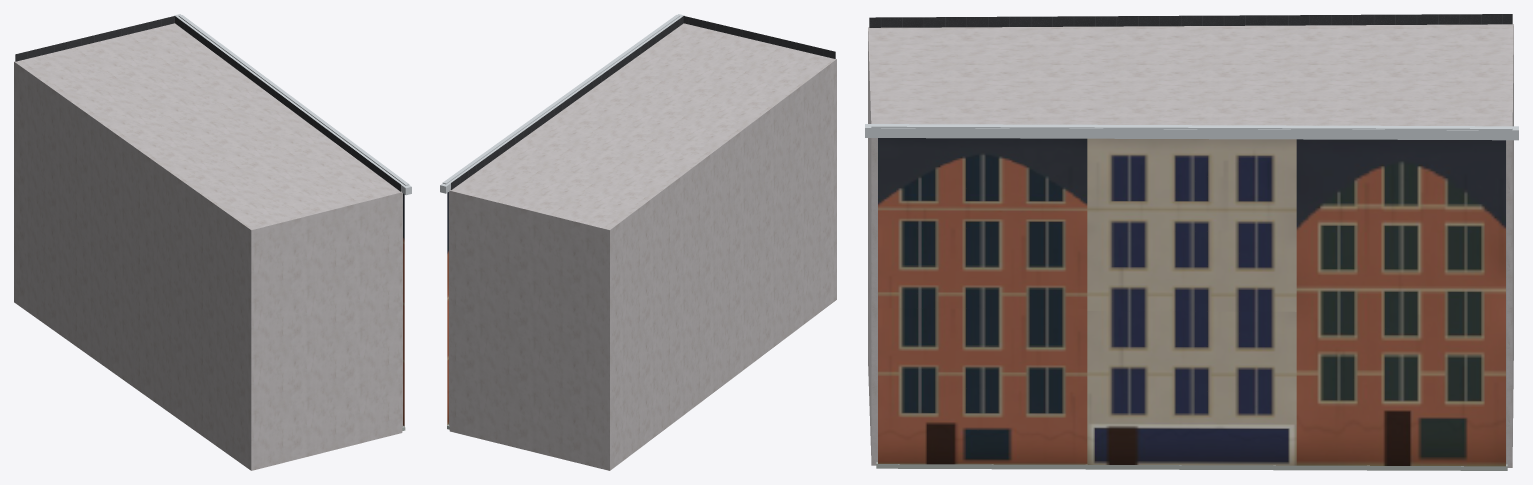
The picture shows the model from 3 angles, left to right: view 1: azimuth 30°, elevation 25°; view 2: azimuth 150°, elevation 25°; view 3: azimuth 270°, elevation 25°; orthographic projection. The views are drawn at different scales.
Visible parts, largest first — view 1: bldg_932389251, bldg_932389251_roof, bldg_932389251_facade0; view 2: bldg_932389251, bldg_932389251_roof, bldg_932389251_facade0; view 3: bldg_932389251_facade0, bldg_932389251, bldg_932389251_roof.
Part boxes in pixels (x1,y1,x2,y2): bldg_932389251: [14, 23, 402, 470]; bldg_932389251_roof: [15, 16, 400, 191]; bldg_932389251_facade0: [174, 14, 411, 430]; bldg_932389251: [449, 23, 836, 470]; bldg_932389251_roof: [451, 16, 835, 189]; bldg_932389251_facade0: [440, 14, 684, 429]; bldg_932389251_facade0: [865, 124, 1518, 470]; bldg_932389251: [868, 24, 1513, 467]; bldg_932389251_roof: [869, 14, 1512, 27].
Size of the model in its own units: 9.44 by 13.33 by 22.88.
5 materials, 3 textured.
